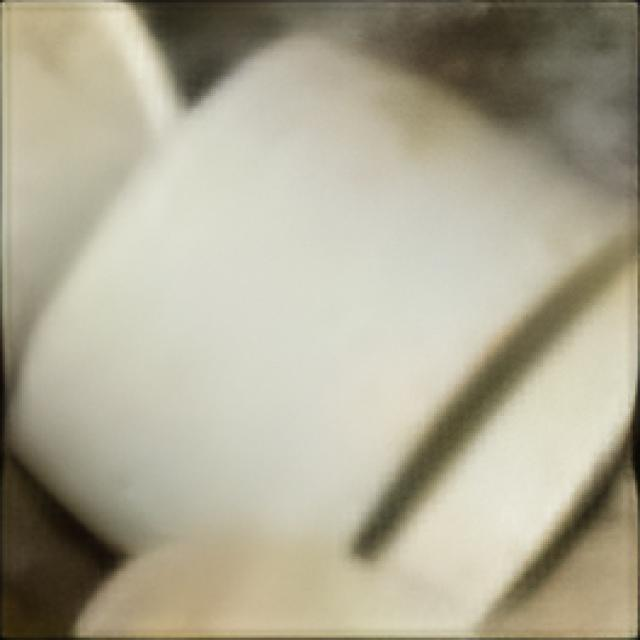paper cup: (18, 0, 640, 599)
